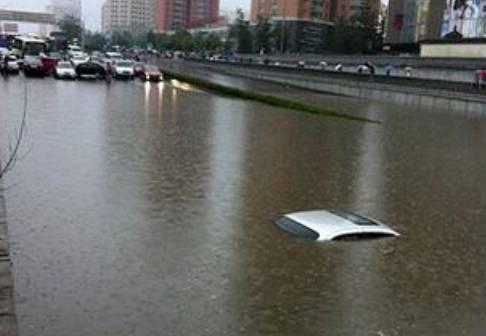water: (1, 69, 485, 241), (10, 219, 485, 334)
